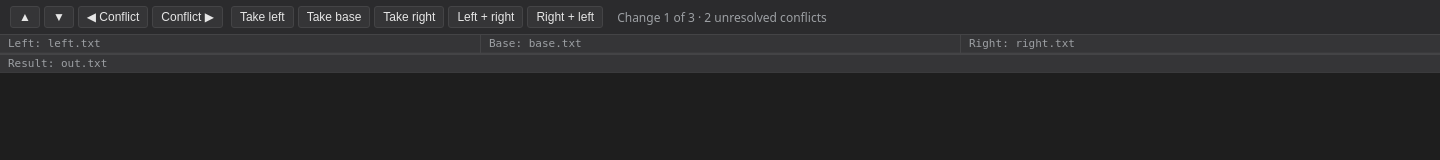
Test: MergeView › keeps later regions tracked after an earlier one changes size
Expected: the message shows "Change", [617,8,827,26]
Click the button "Take left".
click(262, 17)  # box [231,6,294,28]
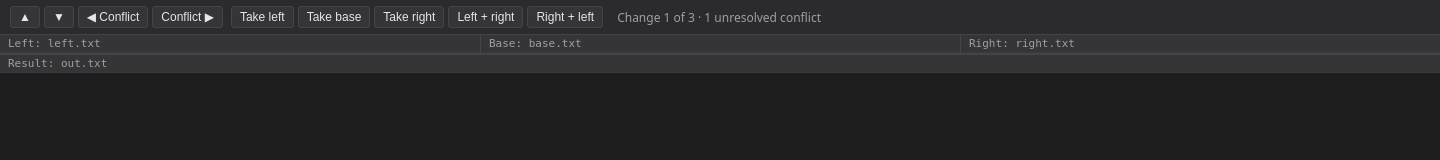
Click the button with aria-label "Next conflict".
click(188, 17)  # box [152,6,223,28]
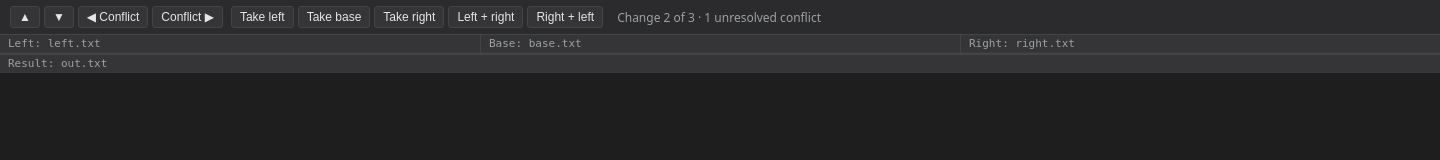
Click the button "Left + right".
click(486, 17)  # box [448,6,523,28]
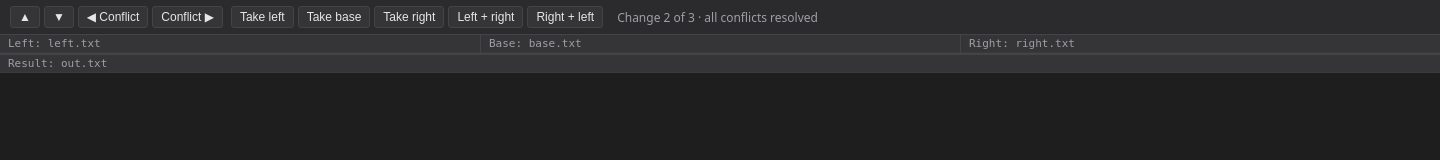
Expected: the message reads "Change 2 of 3 · all conflicts resolved", [617,8,818,26]
